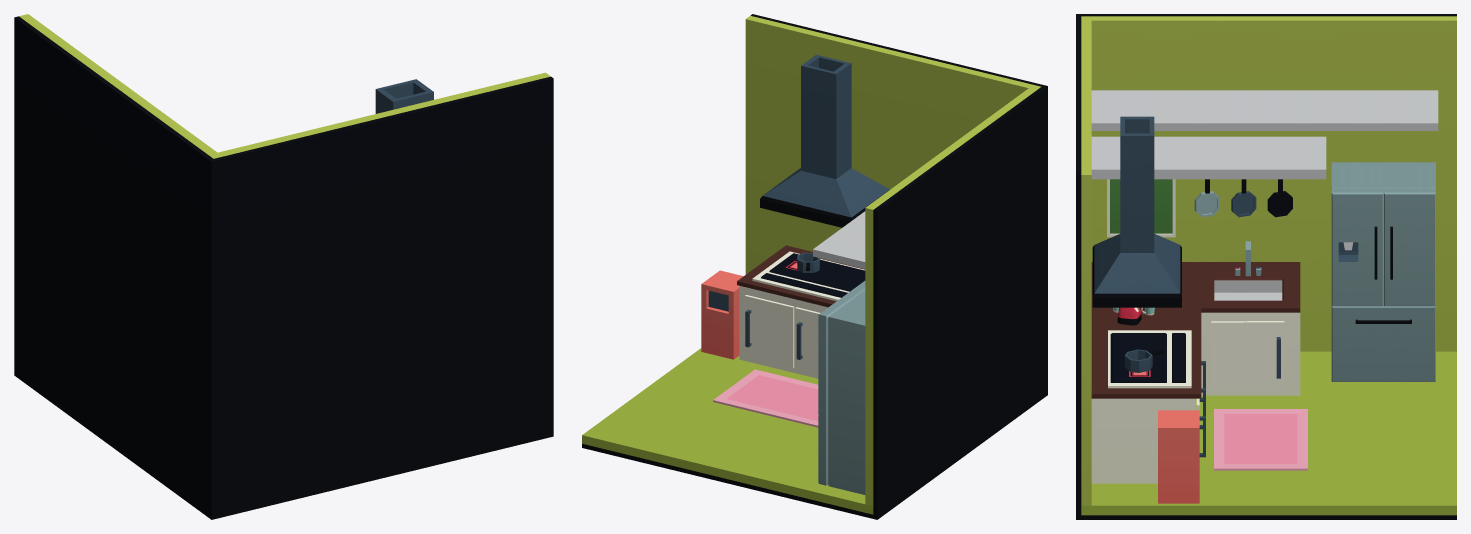
The model's file is kitchen.glb.
3 views of the same model, side by side, from view 1: azimuth 30°, elevation 25°; view 2: azimuth 150°, elevation 25°; view 3: azimuth 270°, elevation 25° (orthographic). The views are drawn at different scales.
Visible parts, largest first — view 1: Walls.001, Thing_above_the_stove_i_dont_really_know_wat_its_called; view 2: Walls.001, Thing_above_the_stove_i_dont_really_know_wat_its_called, Fridge, Carpet, Metal, Door1, Counter.001, Top_Shelf.001, Stove_Top2, Door2, Stove_Top, Stove_Top1; view 3: Walls.001, Fridge, Counter.001, Top_Shelf.001, Thing_above_the_stove_i_dont_really_know_wat_its_called, Top_Shelf, Carpet, Door4, Metal, Stove_Top2, Picture.001, Stove_Top (+5 smaller).
Part boxes in pixels (x1,y1,x2,y2): Walls.001: (14,14,553,519); Thing_above_the_stove_i_dont_really_know_wat_its_called: (375,79,433,113); Walls.001: (582,14,1047,519); Thing_above_the_stove_i_dont_really_know_wat_its_called: (760,54,889,227); Fridge: (818,281,865,494); Carpet: (713,369,818,427); Metal: (701,270,743,359); Door1: (745,295,794,368); Counter.001: (737,245,864,378); Top_Shelf.001: (813,211,865,268); Stove_Top2: (769,253,865,291); Door2: (795,307,820,374); Stove_Top: (752,251,865,301); Stove_Top1: (761,273,847,297); Walls.001: (1076,14,1456,519); Fridge: (1331,162,1435,381); Counter.001: (1091,262,1300,483); Top_Shelf.001: (1091,90,1438,130); Thing_above_the_stove_i_dont_really_know_wat_its_called: (1092,116,1181,307); Top_Shelf: (1091,136,1326,179); Carpet: (1214,409,1307,470); Door4: (1211,321,1284,390); Metal: (1158,410,1199,503); Stove_Top2: (1110,333,1166,382); Picture.001: (1107,179,1175,237); Stove_Top: (1108,330,1191,388).
Bounding box in the file's own units: 3.65 × 3.65 × 3.65.
1 material, 1 textured.
